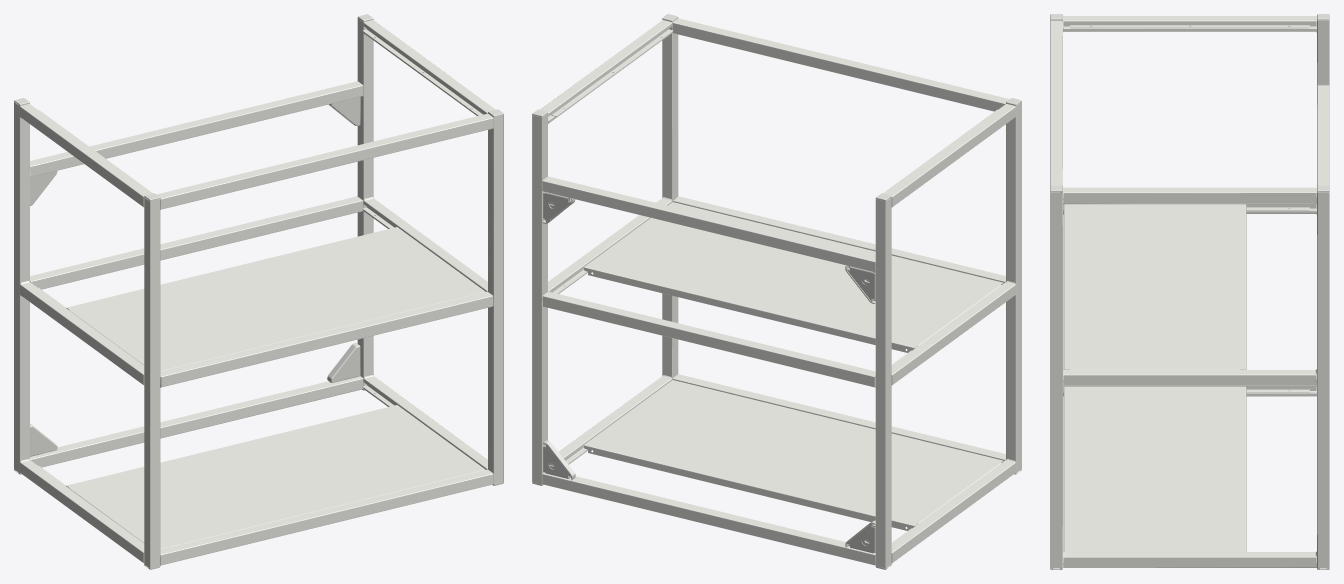
The model's file is enhet_szafka_stojaca_pod_umywalke_40464470.glb.
3 views of the same model, side by side, from view 1: azimuth 30°, elevation 25°; view 2: azimuth 150°, elevation 25°; view 3: azimuth 270°, elevation 25° (orthographic). The views are drawn at different scales.
Visible parts, largest first — view 1: enhet_szafka_stojaca_pod_umywalke_40464470; view 2: enhet_szafka_stojaca_pod_umywalke_40464470; view 3: enhet_szafka_stojaca_pod_umywalke_40464470.
Part boxes in pixels (x1=…): enhet_szafka_stojaca_pod_umywalke_40464470: x1=14, y1=14, x2=503, y2=569; enhet_szafka_stojaca_pod_umywalke_40464470: x1=532, y1=14, x2=1021, y2=569; enhet_szafka_stojaca_pod_umywalke_40464470: x1=1050, y1=14, x2=1329, y2=569.
Bounding box in the file's own units: 0.6 × 0.6 × 0.4.
Materials: 1 (1 with a texture image).
